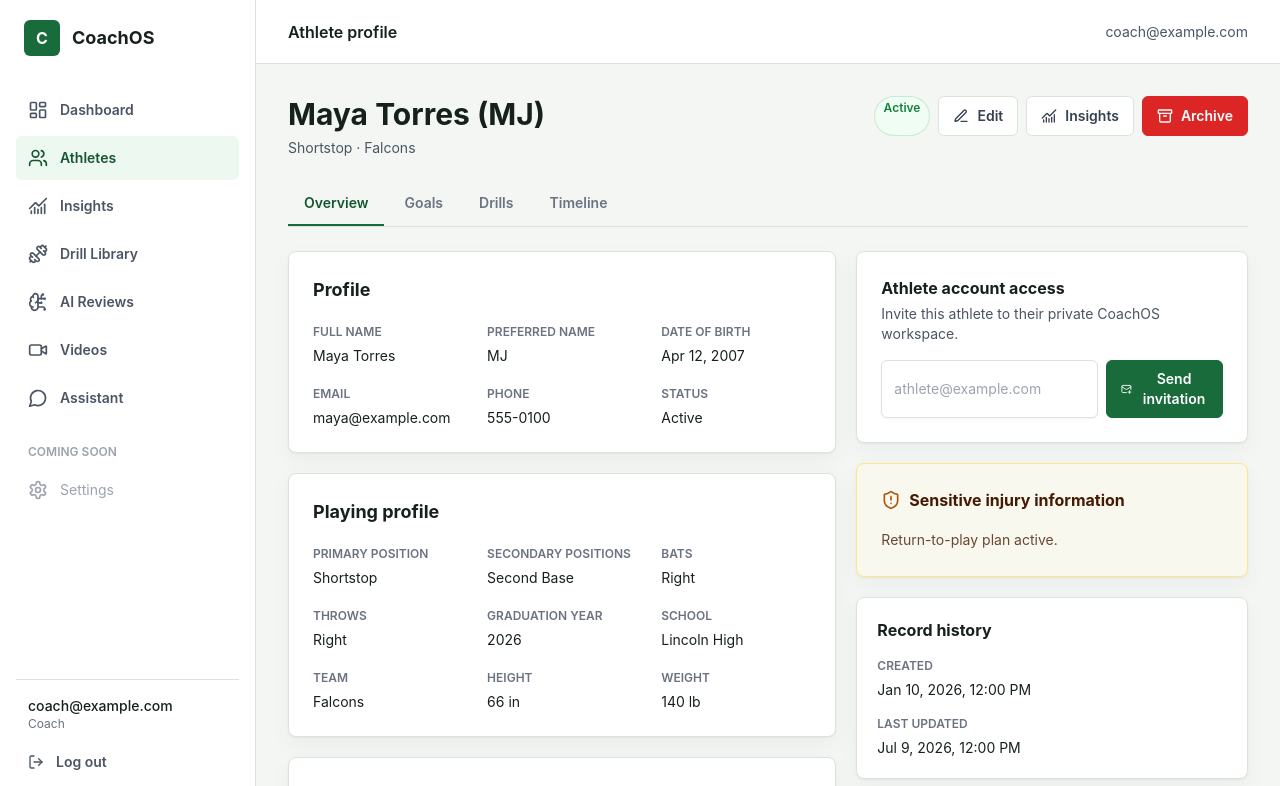
Test: athlete workflows › requires confirmation before archiving and supports restore
Click the button "Archive": (1195, 116) [1142,96,1248,136]
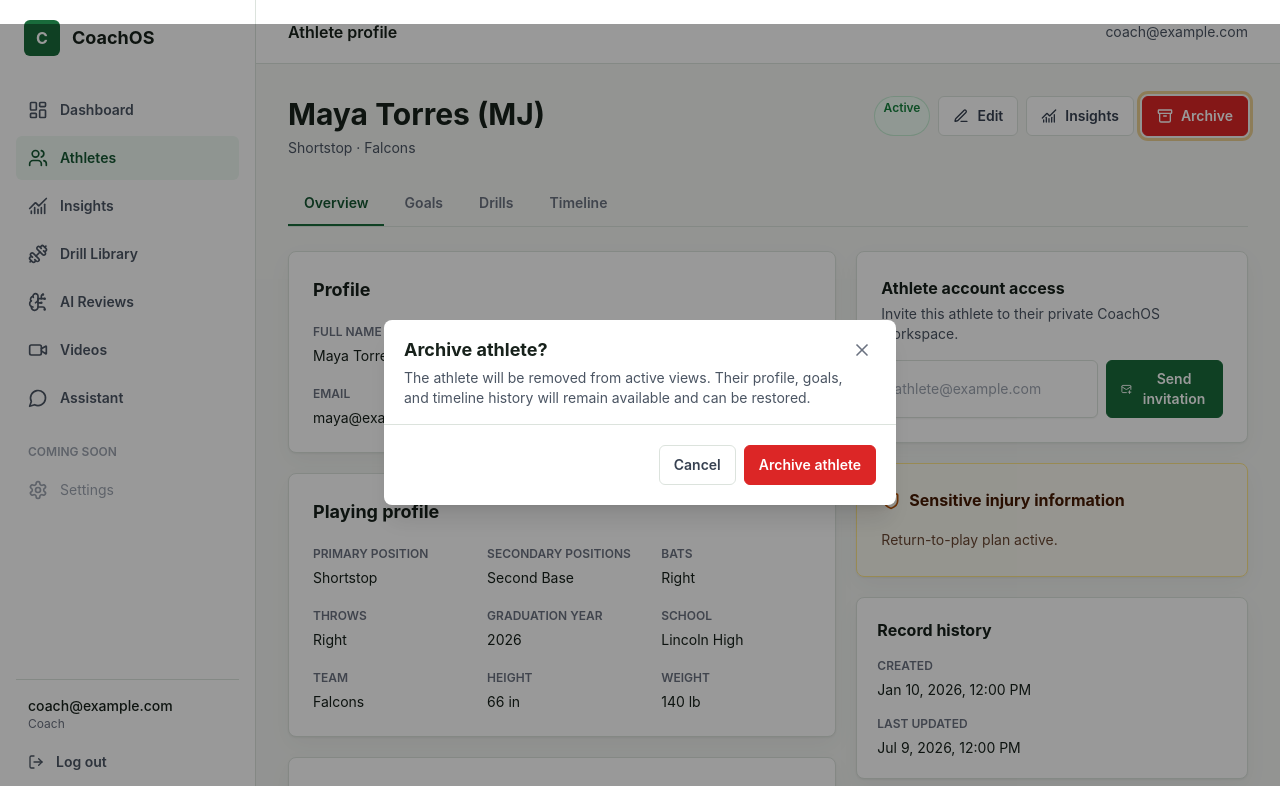
Now the dialog "Archive athlete?" is shown, box [384,320,896,504]
Click the button "Archive athlete": (810, 464) [744,444,876,484]
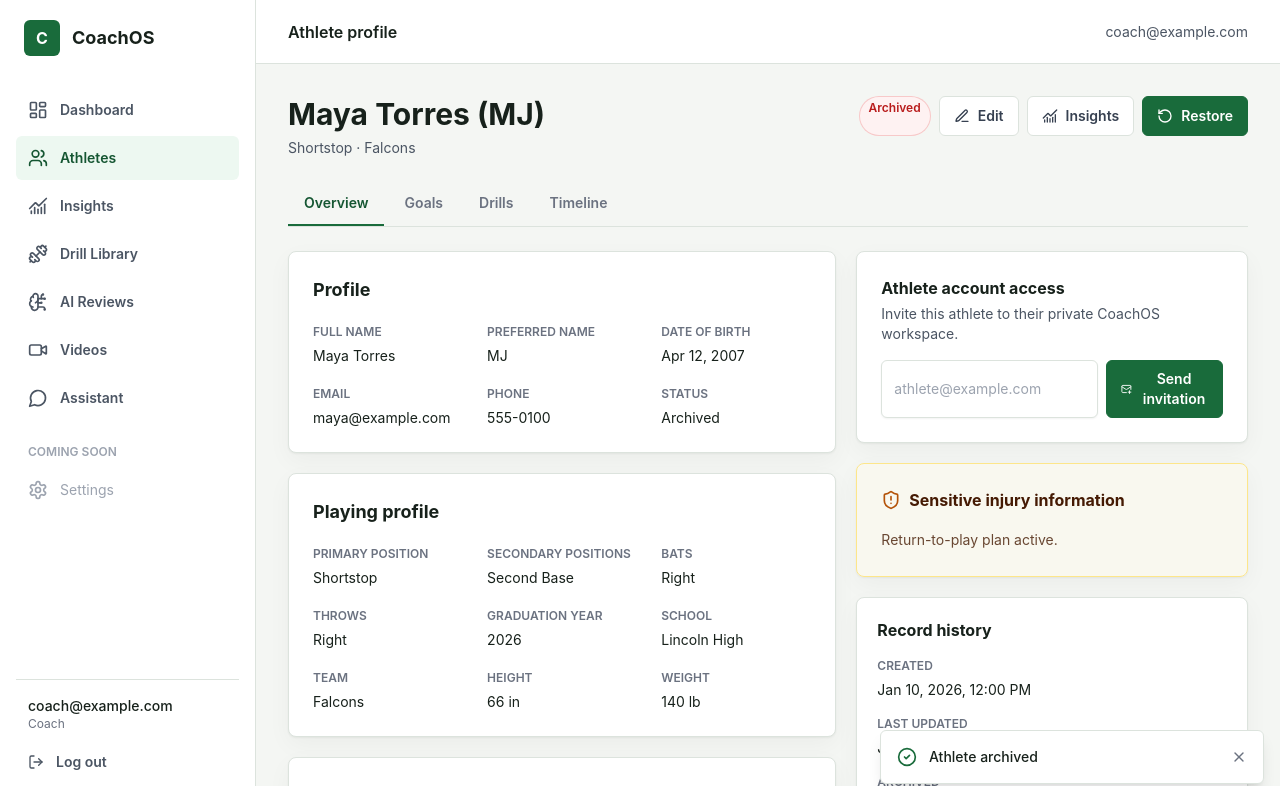
Now the button "Restore" is shown
Click the button "Restore": (1195, 116) [1142,96,1248,136]
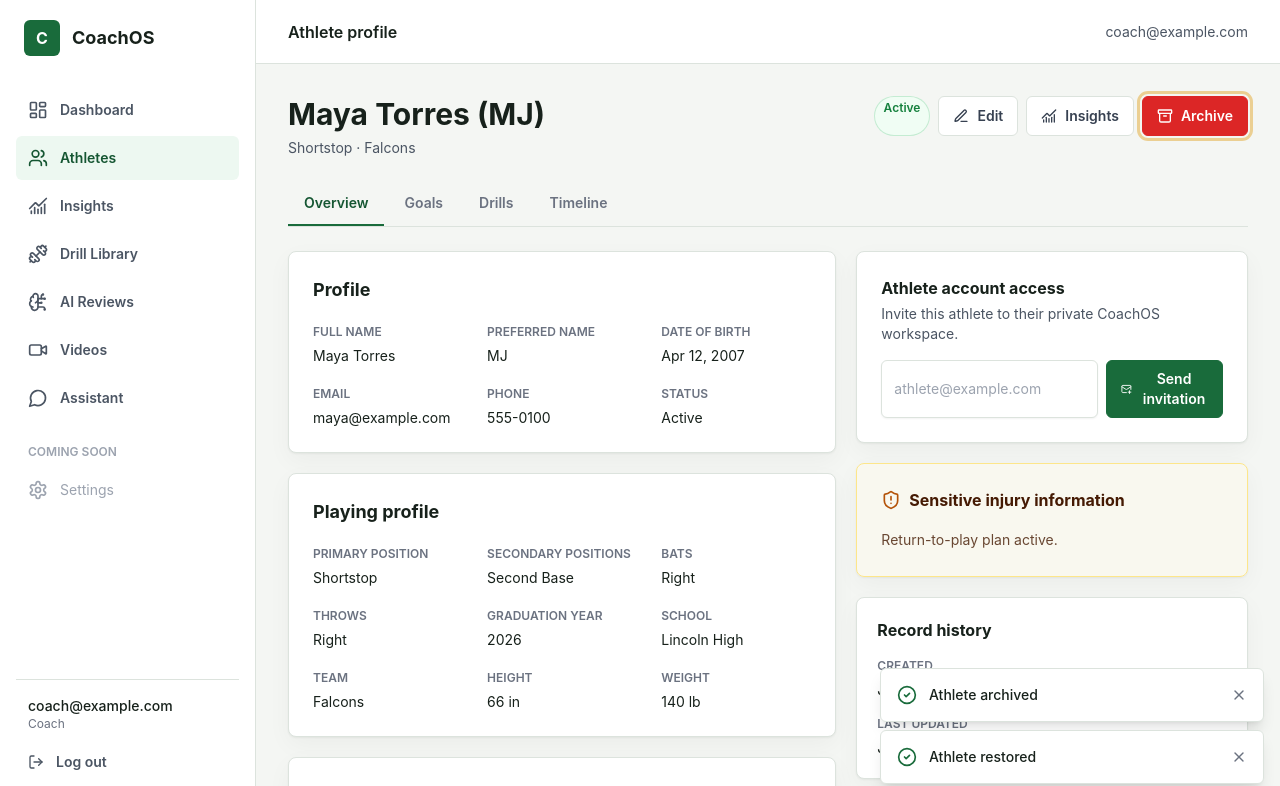
Now the button "Archive" is shown, box [1142,96,1248,136]
